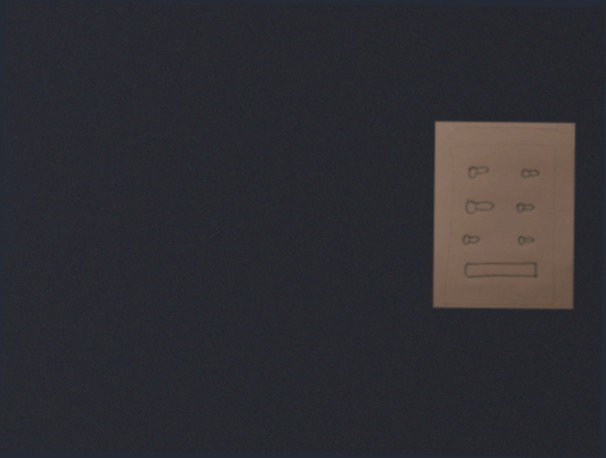switch: (463, 196, 495, 217), (465, 163, 491, 183), (459, 231, 482, 249), (514, 232, 536, 248), (519, 166, 540, 182), (515, 200, 536, 216)
text_input: (462, 260, 541, 283)
